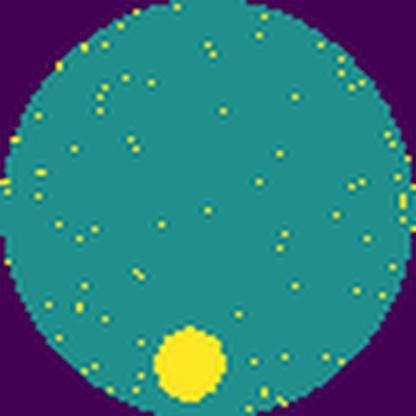Loc: (152, 326, 226, 405)
